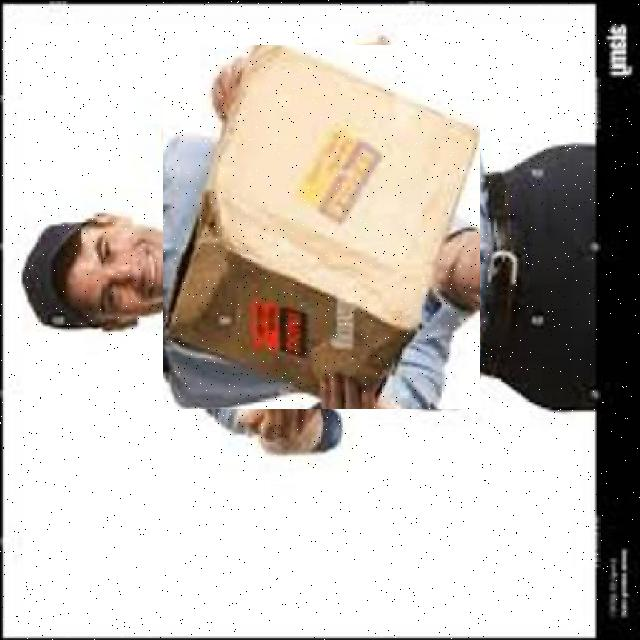normal: (163, 44, 480, 408)
